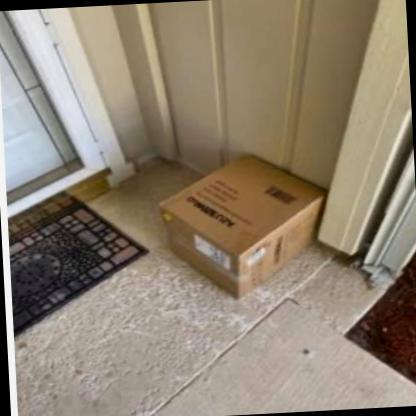box: (159, 152, 328, 302)
